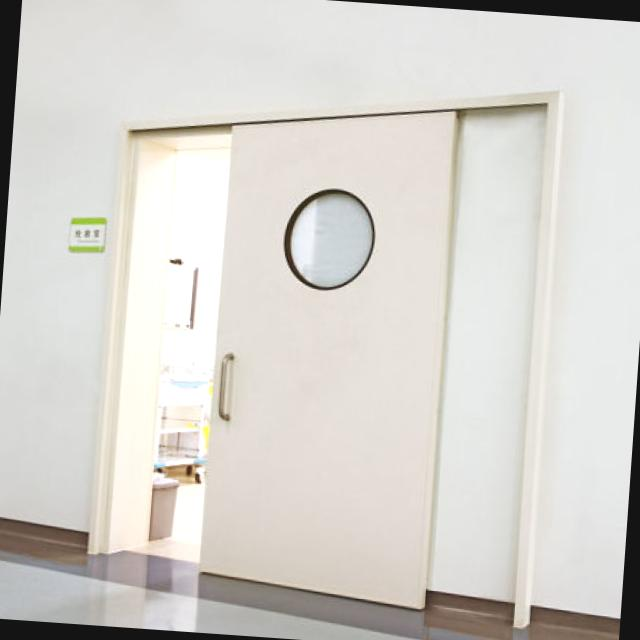door: (88, 92, 562, 628)
